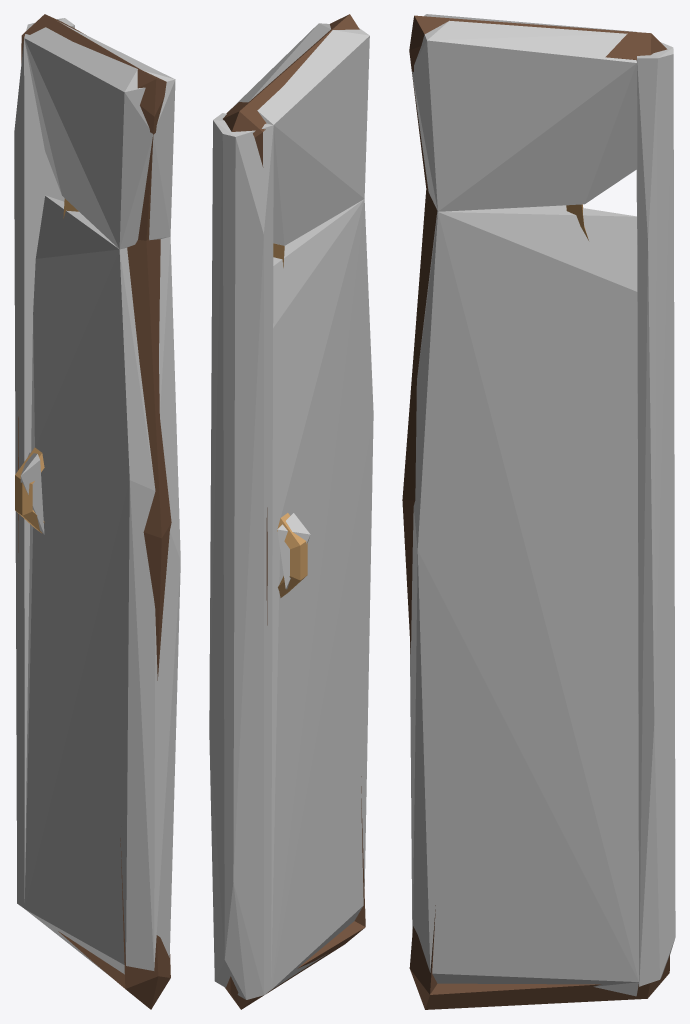
File: SM_Prop_Cabinet_02_Door_02.fbx
3 views of the same model, side by side, from view 1: azimuth 30°, elevation 25°; view 2: azimuth 150°, elevation 25°; view 3: azimuth 270°, elevation 25° (orthographic). The views are drawn at different scales.
Visible parts, largest first — view 1: SM_Prop_Cabinet_02_Door_02_ConvexHulls, SM_Prop_Cabinet_02_Door_02; view 2: SM_Prop_Cabinet_02_Door_02_ConvexHulls, SM_Prop_Cabinet_02_Door_02; view 3: SM_Prop_Cabinet_02_Door_02_ConvexHulls, SM_Prop_Cabinet_02_Door_02.
Part boxes in pixels (x1=…): SM_Prop_Cabinet_02_Door_02_ConvexHulls: x1=14, y1=18, x2=180, y2=974; SM_Prop_Cabinet_02_Door_02: x1=15, y1=14, x2=171, y2=1009; SM_Prop_Cabinet_02_Door_02_ConvexHulls: x1=209, y1=23, x2=373, y2=999; SM_Prop_Cabinet_02_Door_02: x1=223, y1=14, x2=365, y2=1009; SM_Prop_Cabinet_02_Door_02_ConvexHulls: x1=410, y1=14, x2=675, y2=996; SM_Prop_Cabinet_02_Door_02: x1=402, y1=15, x2=669, y2=1009.
Size of the model in its own units: 14.03 by 40.59 by 163.
Materials: 2 (1 with a texture image).
